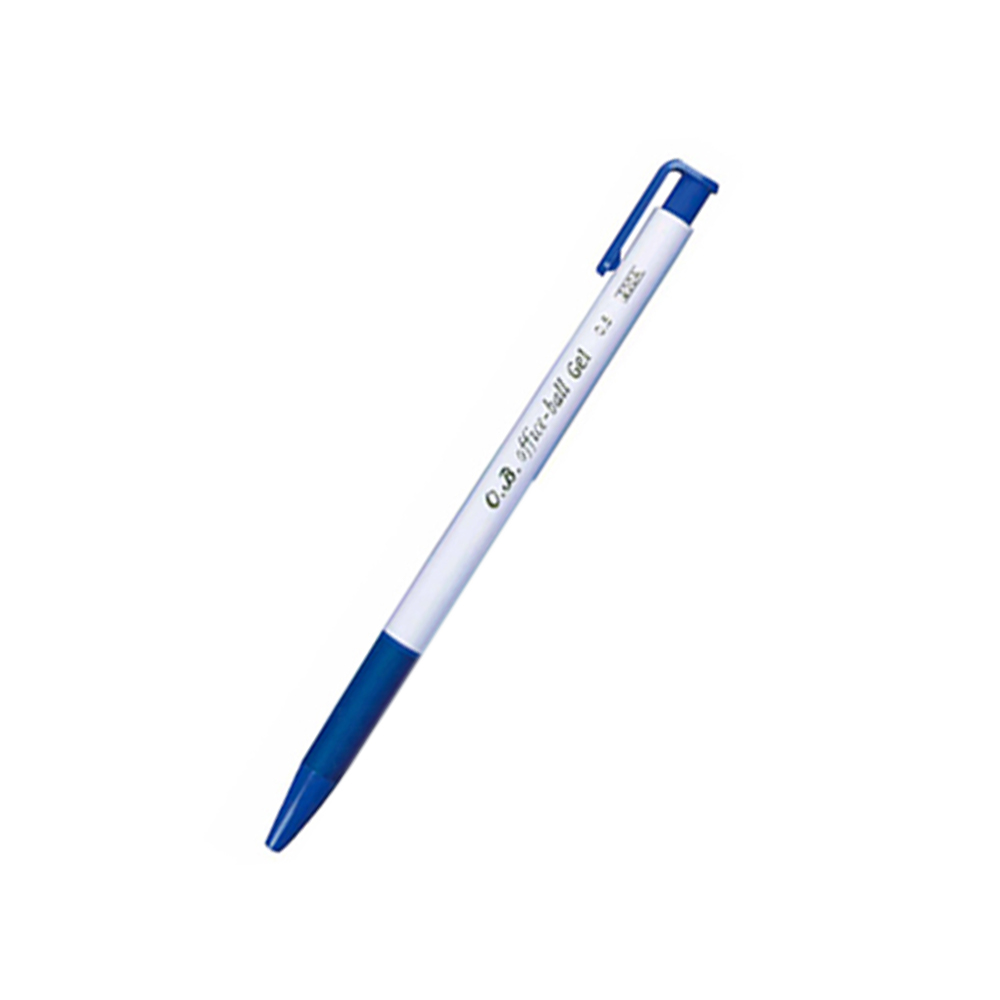pen: (256, 132, 737, 868)
